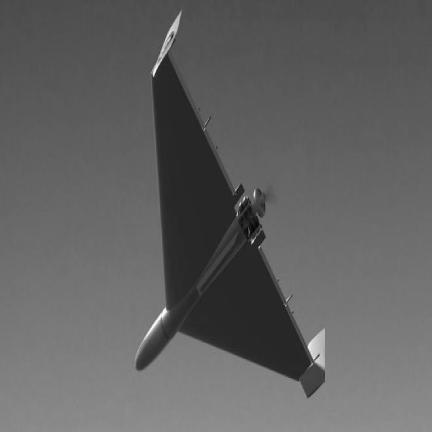Shahed: (136, 14, 324, 396)
